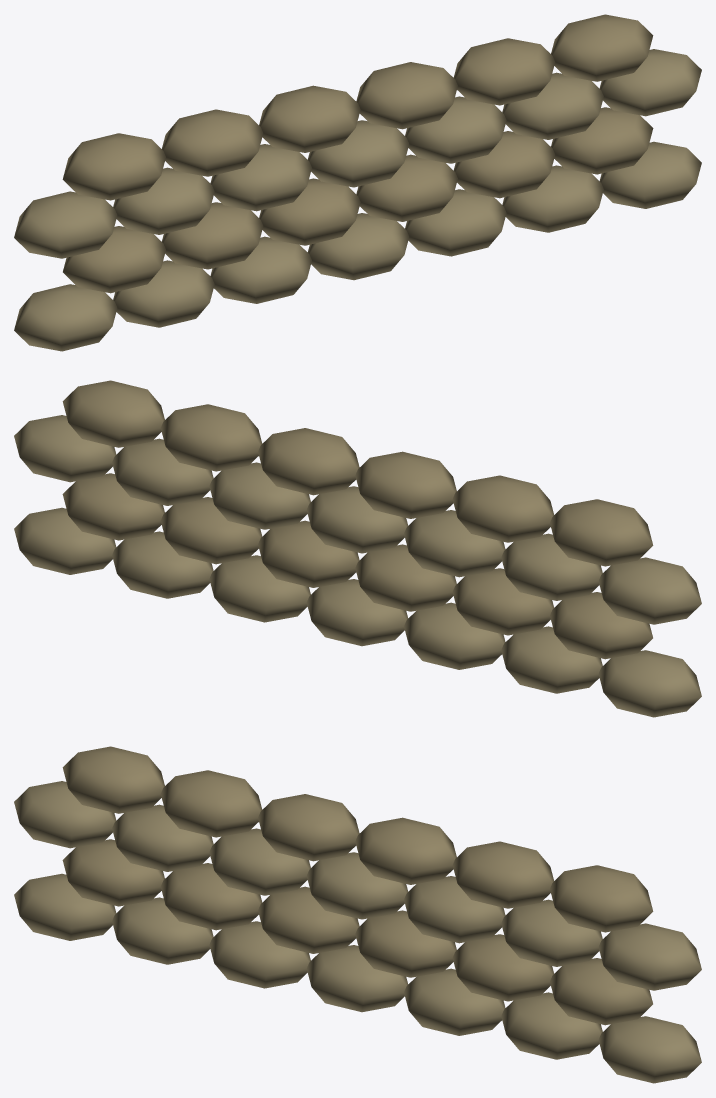
File: sandbags.glb
The picture shows the model from 3 angles, top to bottom: view 1: azimuth 30°, elevation 25°; view 2: azimuth 150°, elevation 25°; view 3: azimuth 330°, elevation 25°; orthographic projection.
Parts seen in each view (by area): view 1: body; view 2: body; view 3: body.
Boxes of the visible parts, box(x1,y1,x2,y2) form: body: box(14, 14, 701, 351); body: box(14, 380, 701, 717); body: box(14, 746, 701, 1083).
Size of the model in its own units: 3.96 by 1.05 by 0.407.
